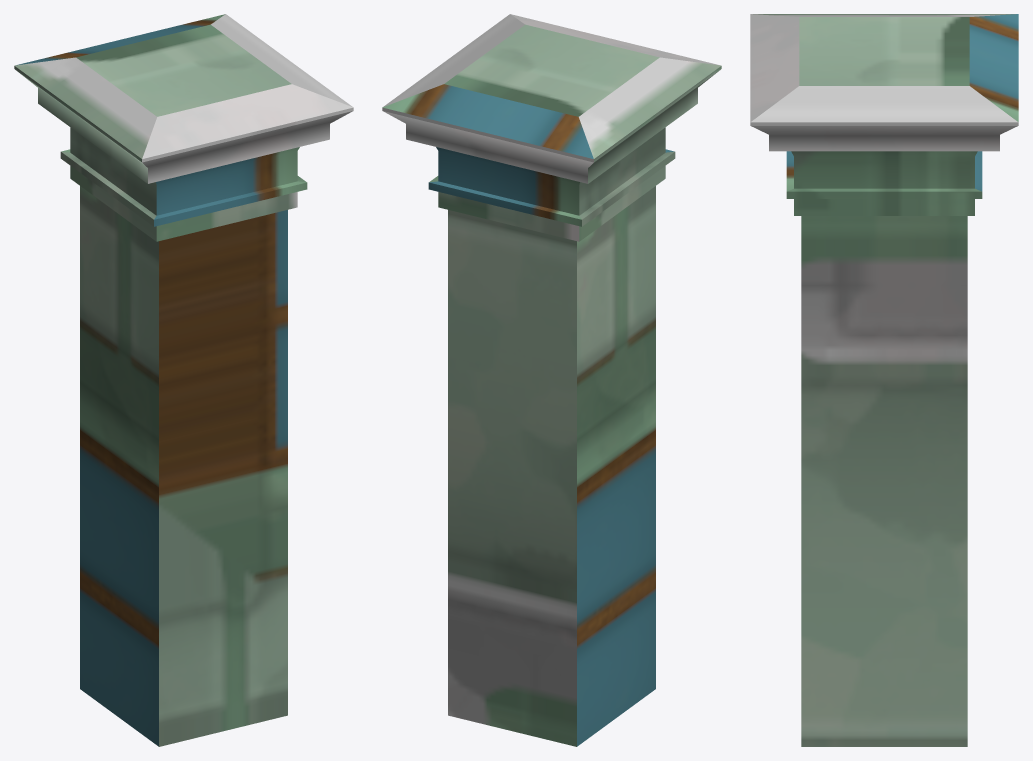
The model's file is qVin_Buld1_BigColumn_Right.fbx.
3 renders of one model, left to right at view 1: azimuth 30°, elevation 25°; view 2: azimuth 150°, elevation 25°; view 3: azimuth 270°, elevation 25°, orthographic. The views are drawn at different scales.
Parts seen in each view (by area): view 1: qVin_Buld1_BigColumn_Right; view 2: qVin_Buld1_BigColumn_Right; view 3: qVin_Buld1_BigColumn_Right.
Part boxes in pixels (x1,y1,x2,y2): qVin_Buld1_BigColumn_Right: (14,14,353,746); qVin_Buld1_BigColumn_Right: (382,14,721,746); qVin_Buld1_BigColumn_Right: (750,14,1018,746).
Bounding box in the file's own units: 175 × 498 × 183.
1 material, 1 textured.
